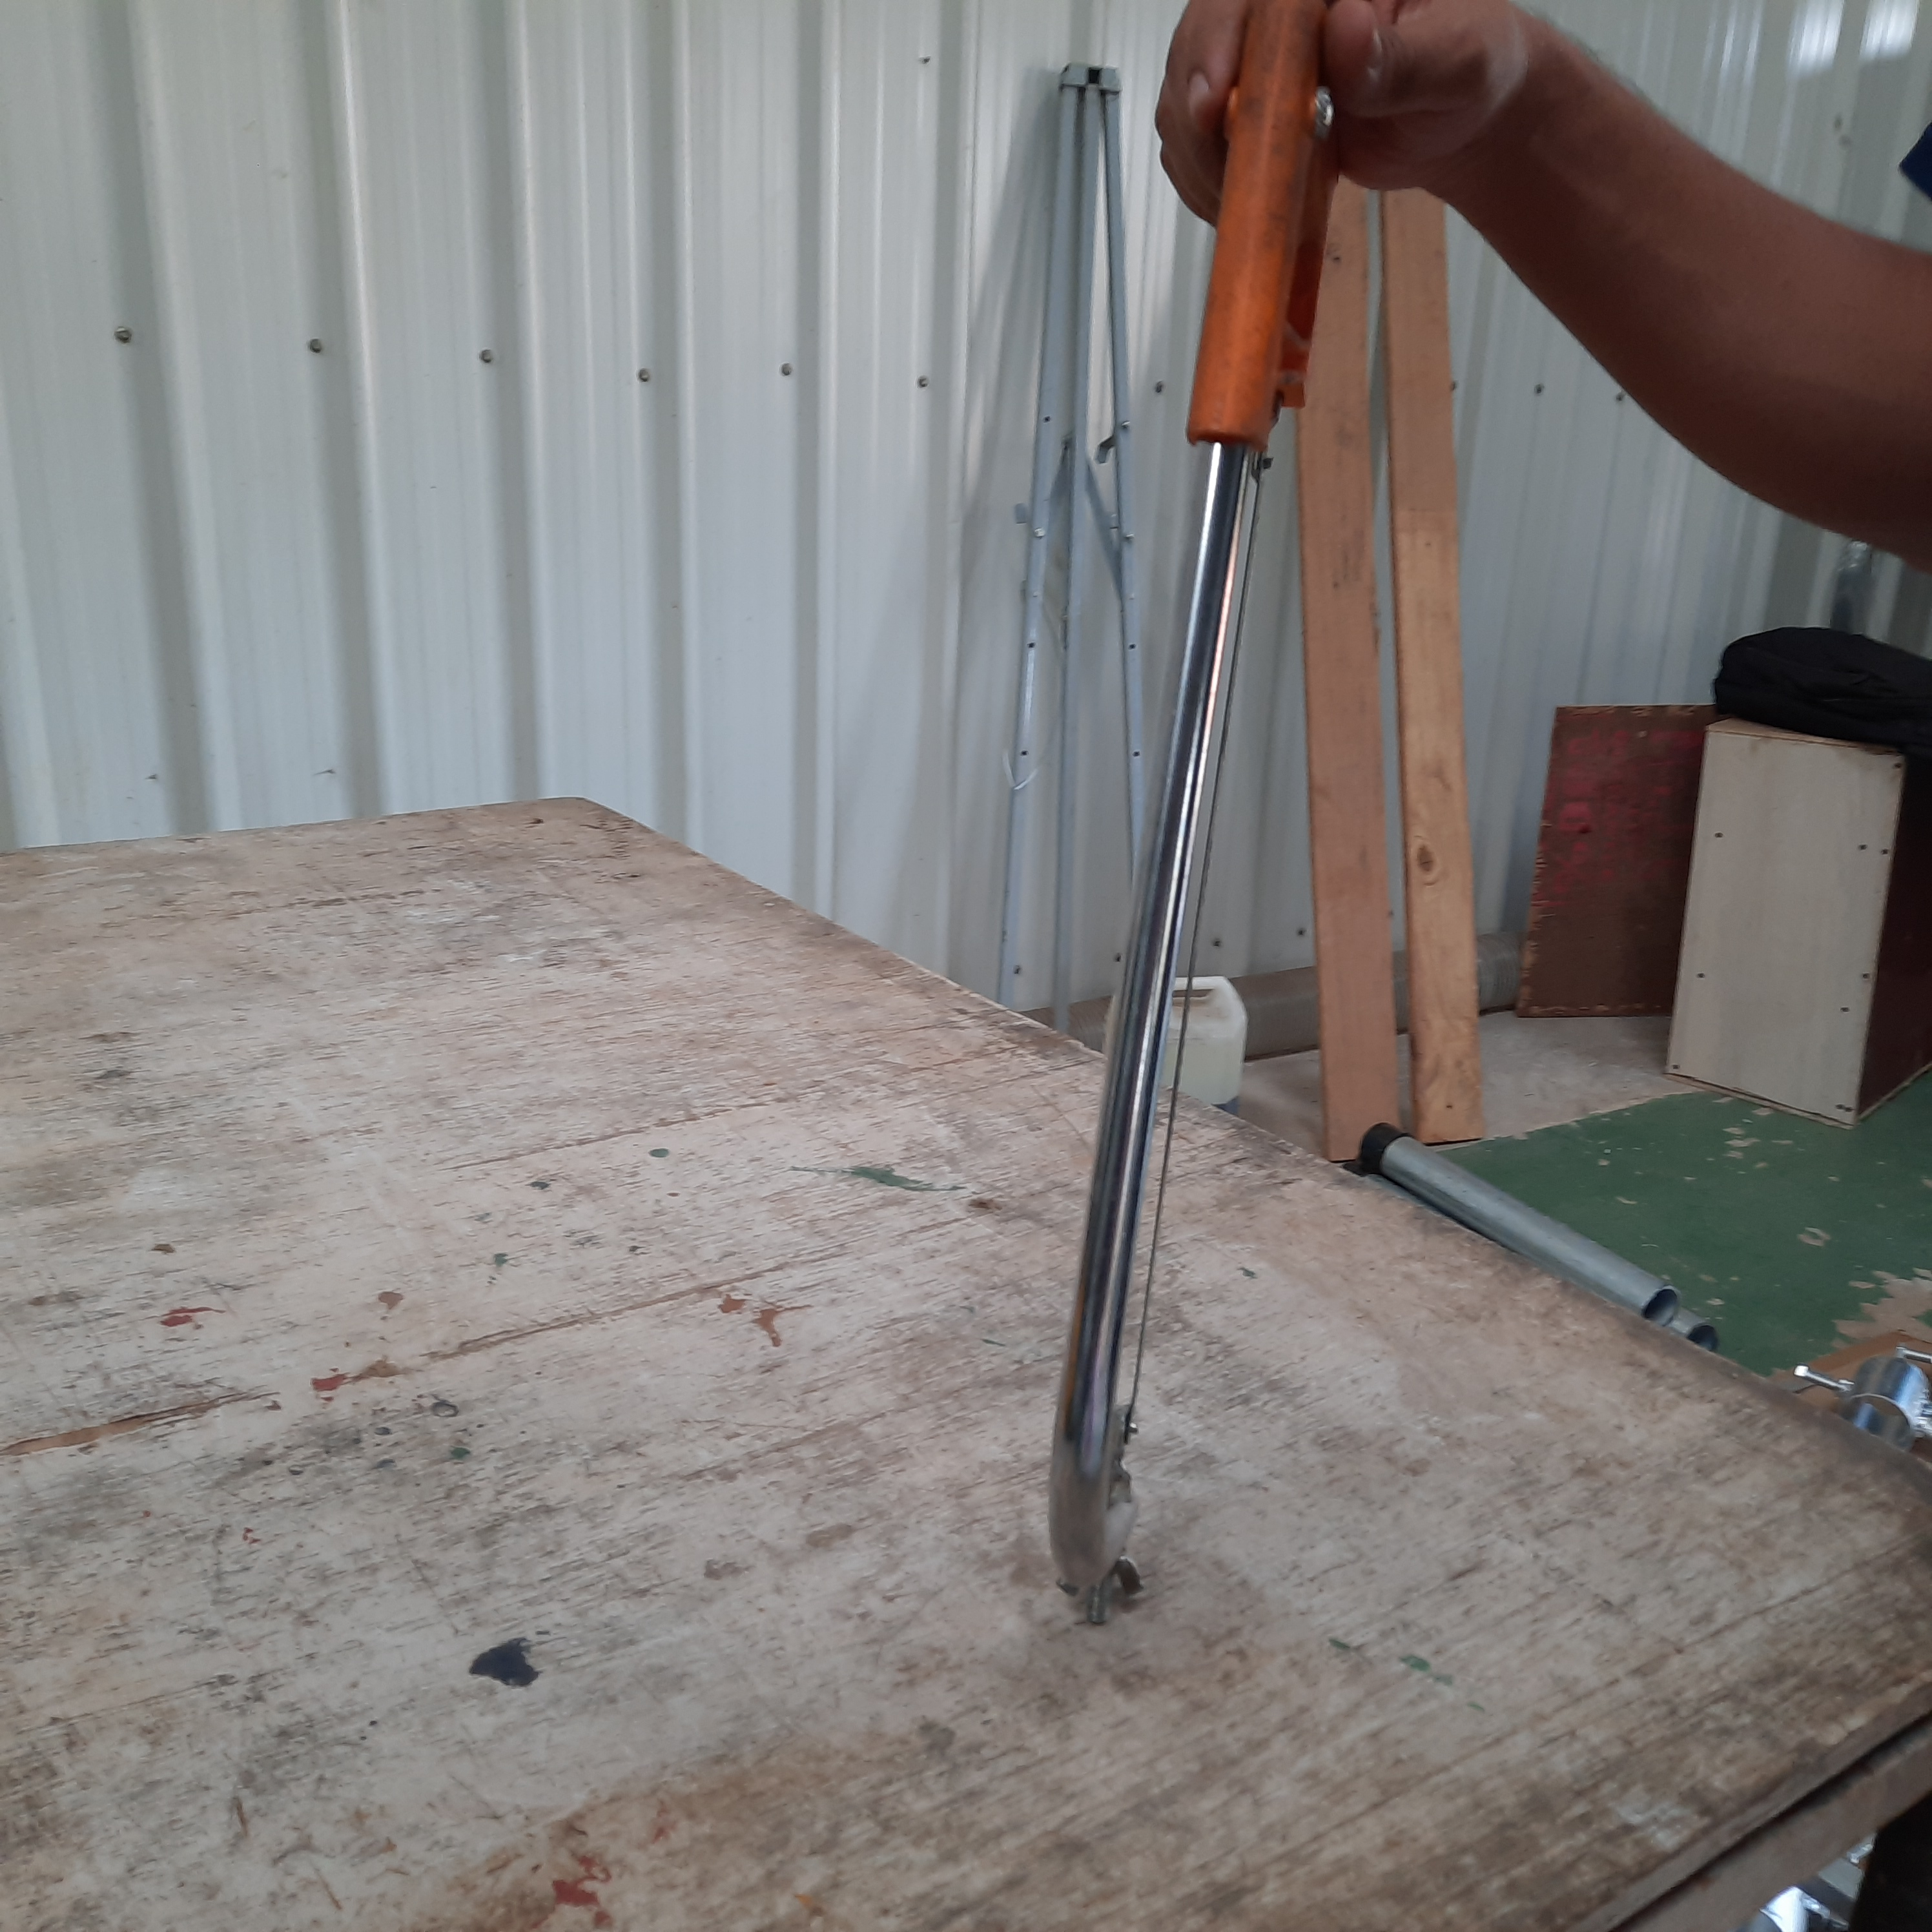Hexaframe: (996, 14, 1387, 1723)
